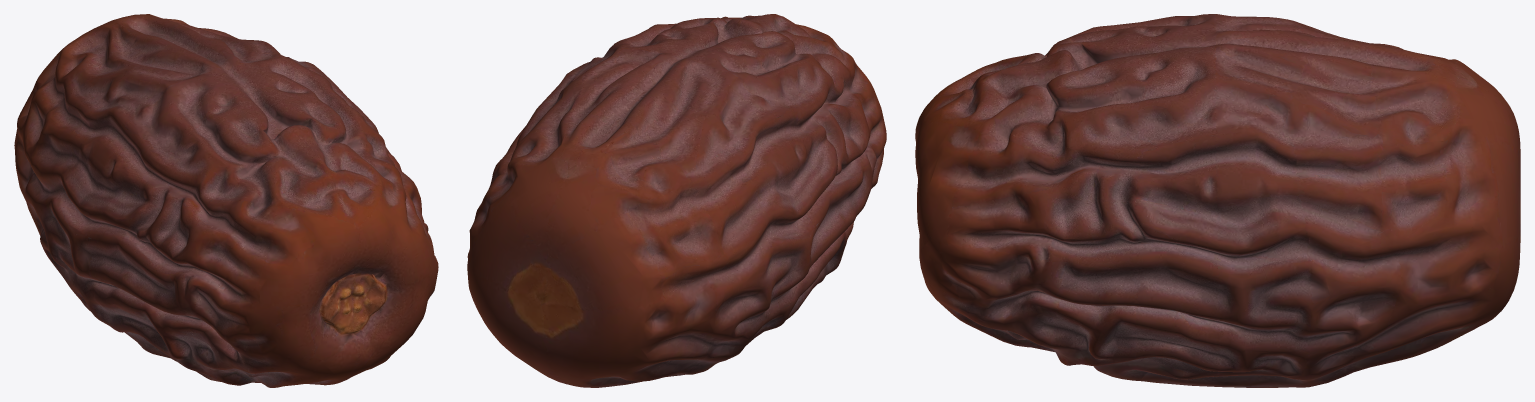
File: date.glb
3 views of the same model, side by side, from view 1: azimuth 30°, elevation 25°; view 2: azimuth 150°, elevation 25°; view 3: azimuth 270°, elevation 25° (orthographic). The views are drawn at different scales.
Size of the model in its own units: 1.19 by 1.12 by 1.9.
Materials: 1 (1 with a texture image).
